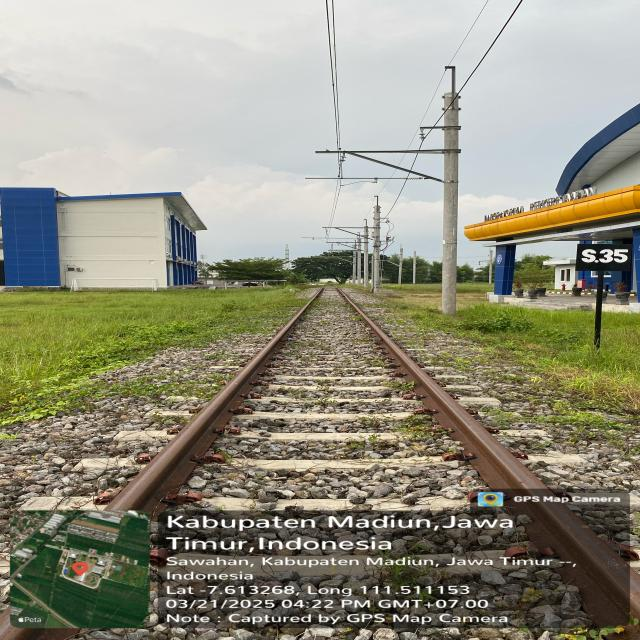rail-detection: (336, 289, 640, 625), (106, 288, 326, 515), (624, 622, 640, 640)
